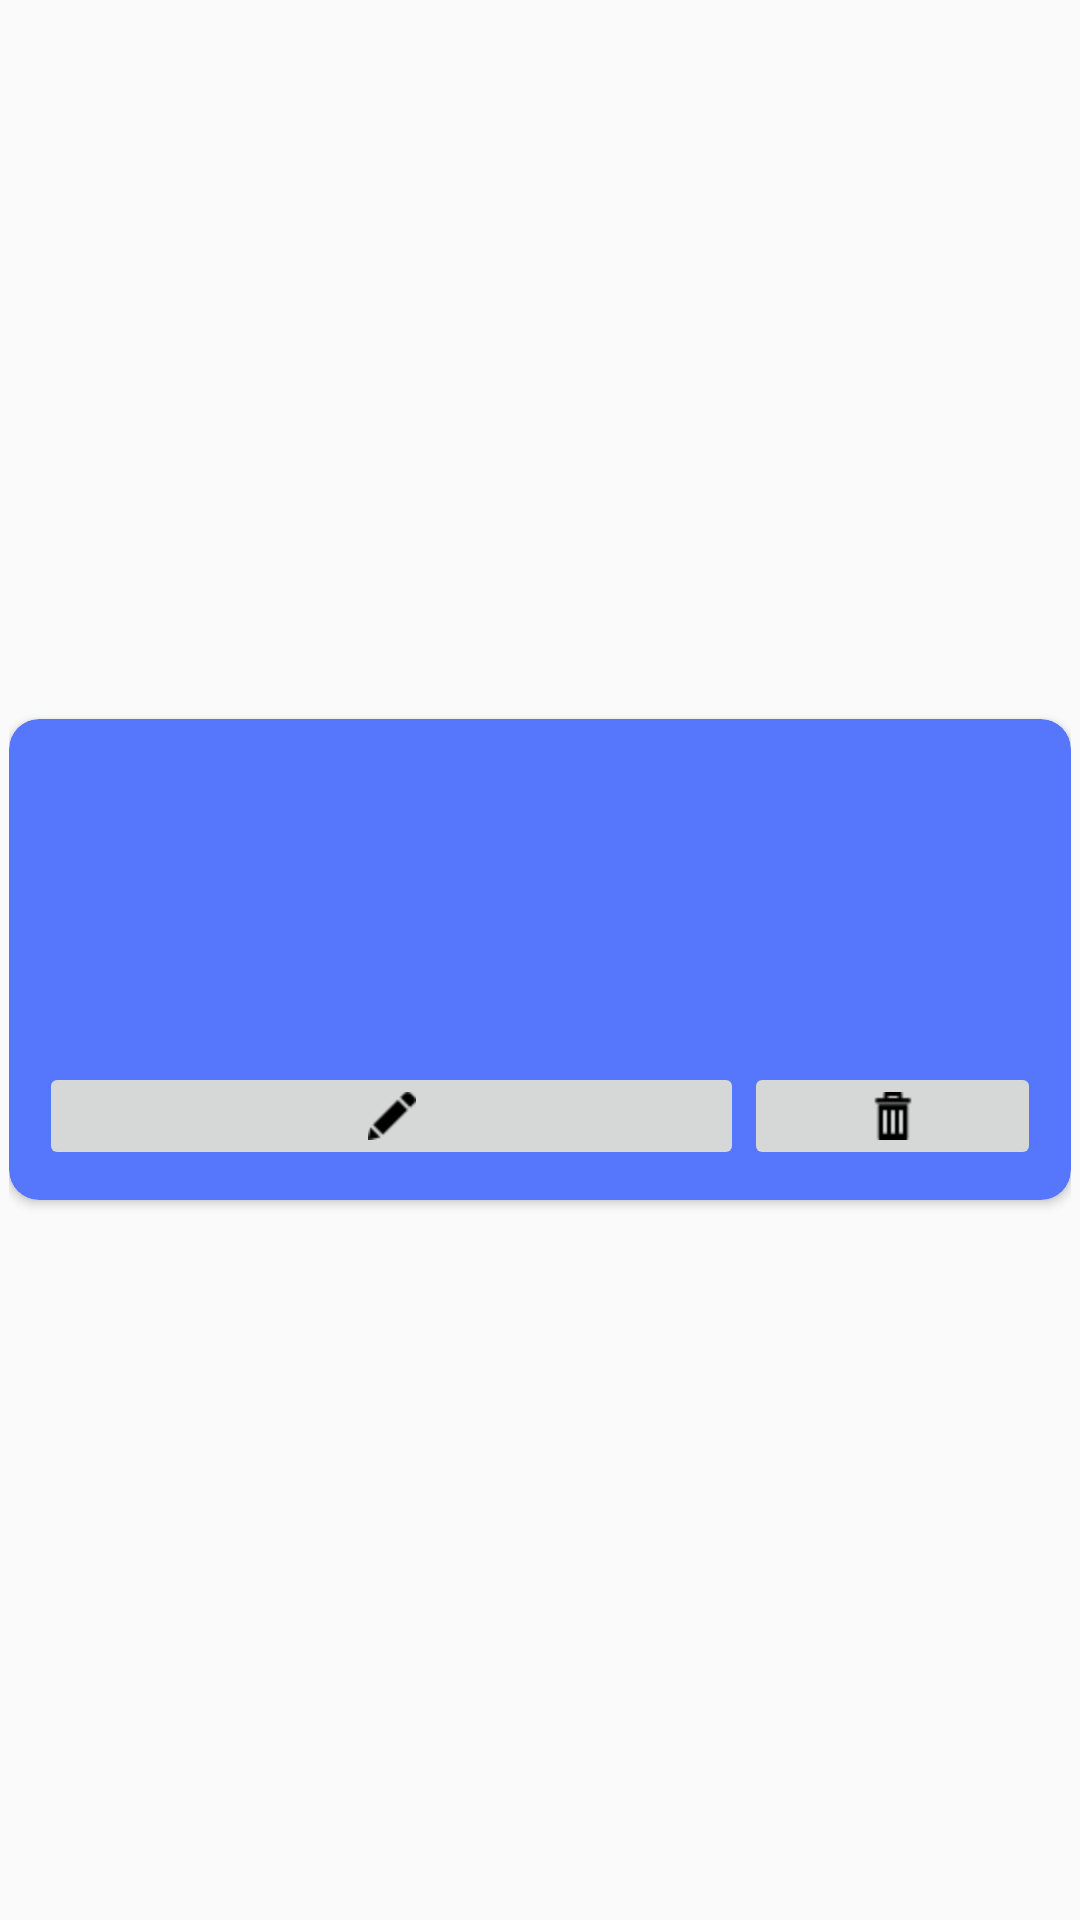

Screen size 1080x1920. Icon name, then its box in pixels as Rect(x1, y1, x2, y2):
Delete: Rect(756, 1080, 1029, 1152)
